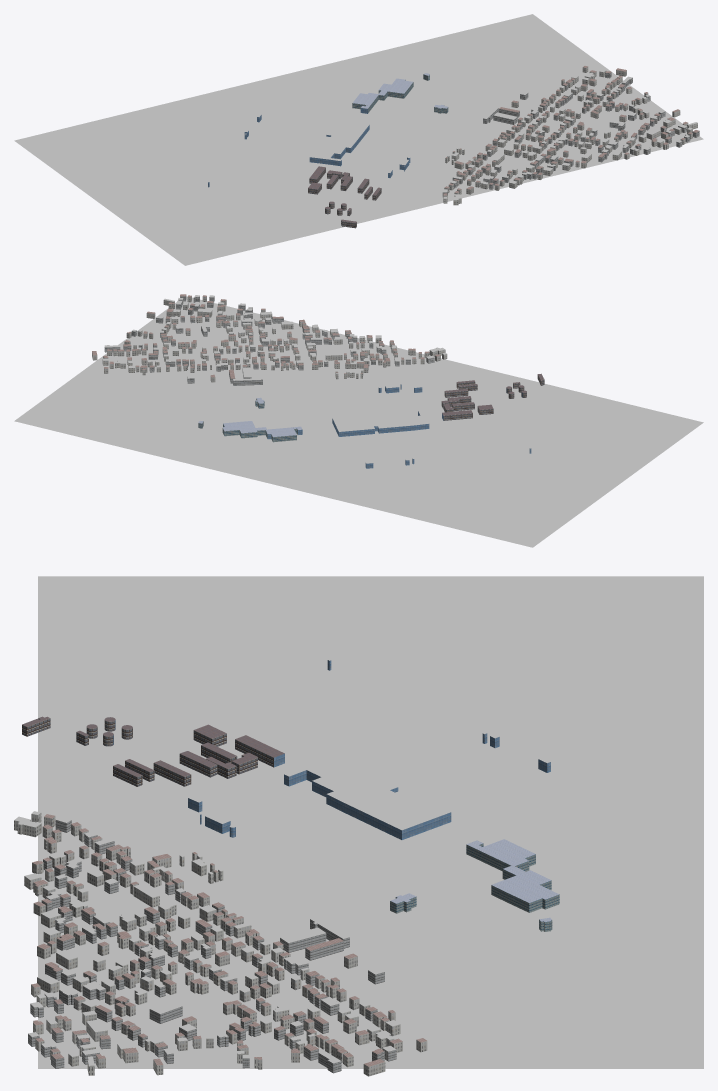
The model's file is burgasAirport.fbx.
3 renders of one model, top to bottom at view 1: azimuth 30°, elevation 25°; view 2: azimuth 150°, elevation 25°; view 3: azimuth 270°, elevation 25°, orthographic. The views are drawn at different scales.
Parts seen in each view (by area): view 1: EXPORT_GOOGLE_SAT_WM, Areas:building, Roof; view 2: EXPORT_GOOGLE_SAT_WM, Areas:building, Roof; view 3: EXPORT_GOOGLE_SAT_WM, Areas:building, Roof.
Part boxes in pixels (x1,y1,x2,y2): EXPORT_GOOGLE_SAT_WM: (14,14,703,265); Areas:building: (208,67,699,228); Roof: (208,66,699,223); EXPORT_GOOGLE_SAT_WM: (14,296,703,547); Areas:building: (92,295,544,468); Roof: (92,294,544,463); EXPORT_GOOGLE_SAT_WM: (38,576,703,1068); Areas:building: (14,660,559,1076); Roof: (14,659,558,1066).
Size of the model in its own units: 217383 by 2000 by 126703.
